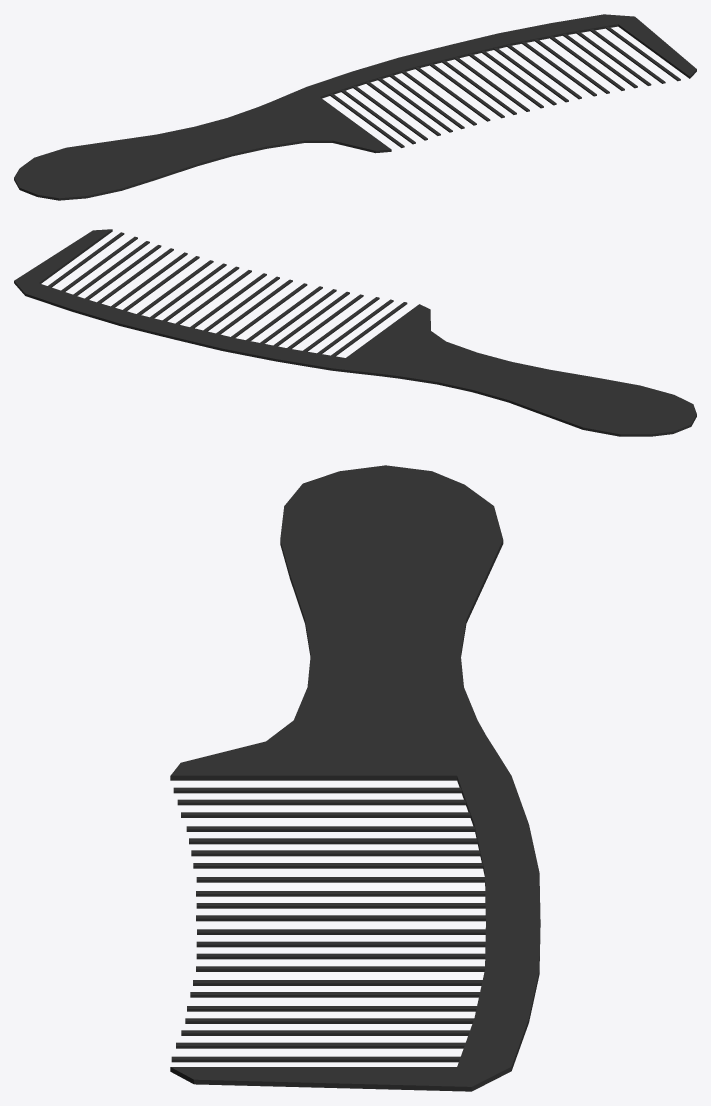
The model's file is Peine.fbx.
3 views of the same model, one above another, from view 1: azimuth 30°, elevation 25°; view 2: azimuth 150°, elevation 25°; view 3: azimuth 270°, elevation 25° (orthographic). The views are drawn at different scales.
Visible parts, largest first — view 1: Box001; view 2: Box001; view 3: Box001.
Part boxes in pixels (x1,y1,x2,y2): Box001: (14,14,696,200); Box001: (14,229,696,436); Box001: (170,465,540,1091).
Bounding box in the file's own units: 14.69 × 0.052 × 3.7.
